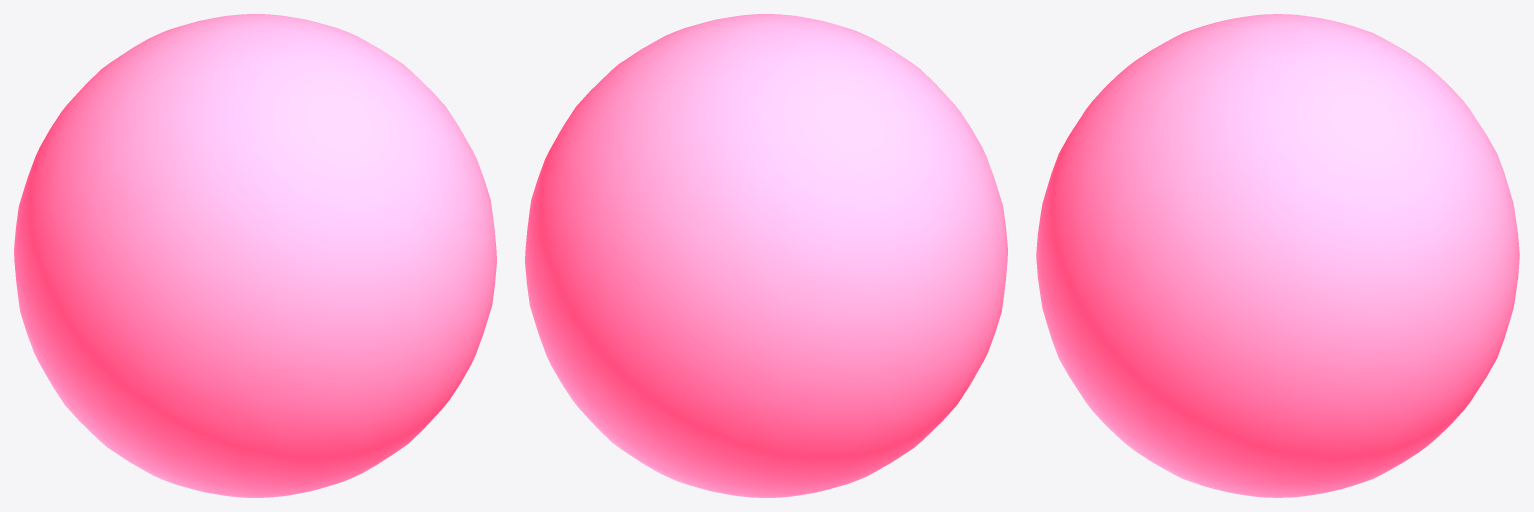
The model's file is clearDayDraco.gltf.
3 views of the same model, side by side, from view 1: azimuth 30°, elevation 25°; view 2: azimuth 150°, elevation 25°; view 3: azimuth 270°, elevation 25° (orthographic).
Parts seen in each view (by area): view 1: Sphere.008; view 2: Sphere.008; view 3: Sphere.008.
Boxes of the visible parts, x1=… form: Sphere.008: x1=14, y1=14, x2=496, y2=497; Sphere.008: x1=525, y1=14, x2=1007, y2=497; Sphere.008: x1=1036, y1=14, x2=1519, y2=497.
Size of the model in its own units: 4.35 by 4.35 by 4.35.
